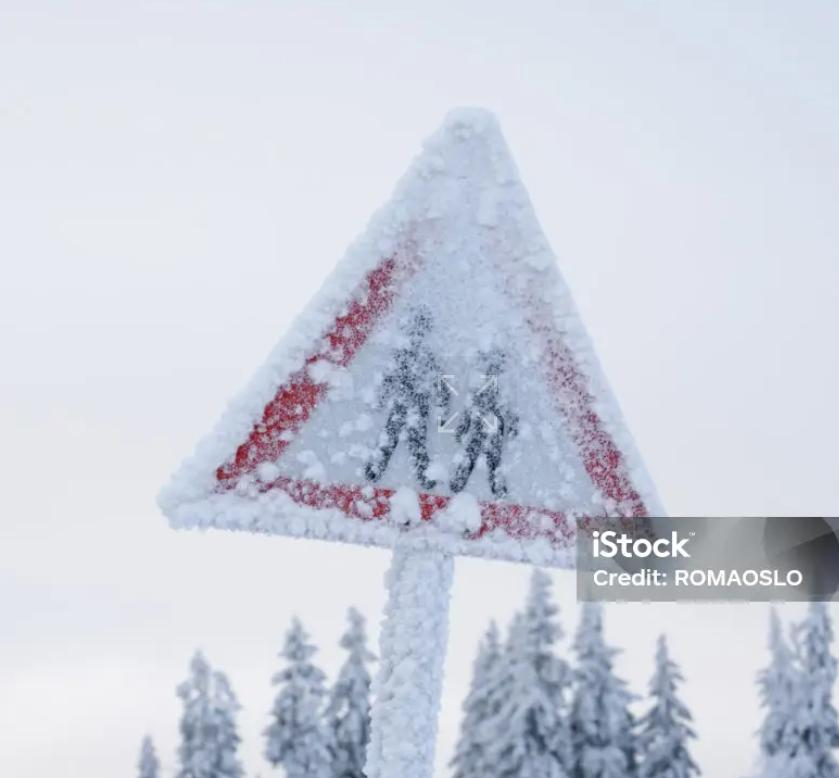obstructed_road_sign: (162, 103, 666, 561)
